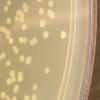white: (47, 10, 56, 19), (16, 8, 25, 17), (29, 38, 38, 47), (39, 19, 47, 29), (12, 45, 20, 55), (17, 36, 26, 44), (42, 30, 49, 40), (60, 30, 66, 40), (21, 23, 28, 31), (8, 70, 16, 77), (40, 8, 46, 17), (0, 52, 6, 61), (26, 56, 32, 65), (48, 0, 55, 7), (23, 6, 30, 13), (44, 67, 51, 74), (10, 77, 17, 84), (32, 84, 38, 92), (0, 91, 6, 99), (5, 16, 10, 25), (19, 55, 24, 64), (22, 2, 28, 9), (14, 15, 20, 22), (19, 15, 25, 22), (6, 28, 12, 35), (5, 60, 11, 67), (5, 79, 11, 86), (0, 26, 5, 34), (7, 0, 13, 6), (18, 71, 24, 77), (12, 88, 18, 94), (8, 38, 13, 45), (17, 77, 24, 82), (24, 95, 31, 100), (15, 84, 20, 91), (4, 6, 9, 12), (31, 94, 36, 100), (12, 95, 18, 100), (5, 35, 10, 40), (6, 94, 10, 100), (37, 0, 44, 3)
